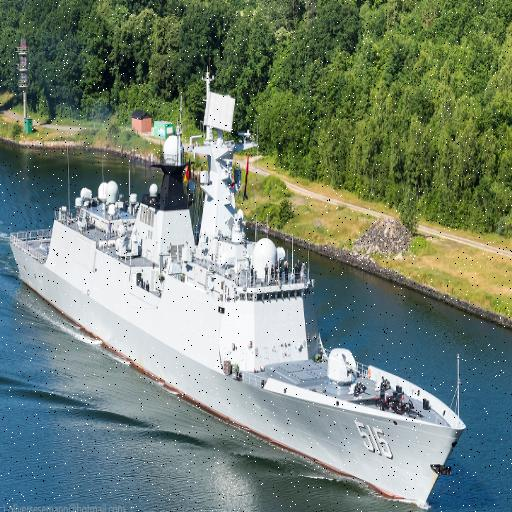Fragata: (4, 58, 481, 512)
